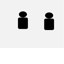human: (42, 10, 56, 31), (16, 9, 29, 30)
